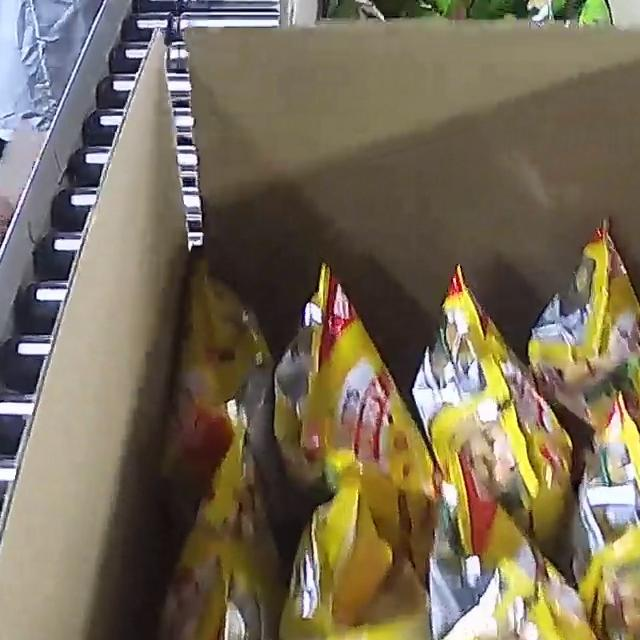salted: (108, 219, 640, 640)
yogurt: (335, 0, 630, 50)
